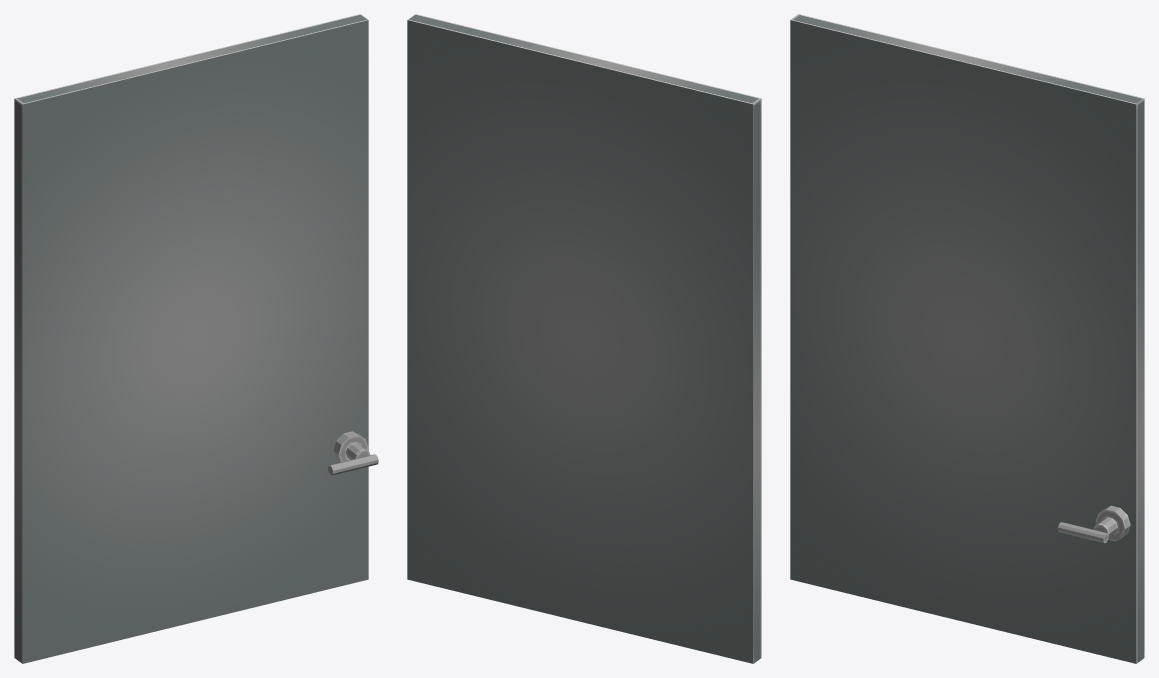
The model's file is Door_002_Left_001.fbx.
The picture shows the model from 3 angles, left to right: view 1: azimuth 30°, elevation 25°; view 2: azimuth 150°, elevation 25°; view 3: azimuth 330°, elevation 25°; orthographic projection.
Parts seen in each view (by area): view 1: Door_002_Left_001; view 2: Door_002_Left_001; view 3: Door_002_Left_001.
Boxes of the visible parts, x1=… form: Door_002_Left_001: x1=14, y1=14, x2=378, y2=663; Door_002_Left_001: x1=407, y1=14, x2=761, y2=663; Door_002_Left_001: x1=790, y1=14, x2=1144, y2=663.
Bounding box in the file's own units: 185 × 285 × 27.36.
